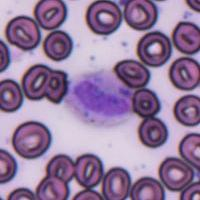N: (64, 70, 134, 126)
